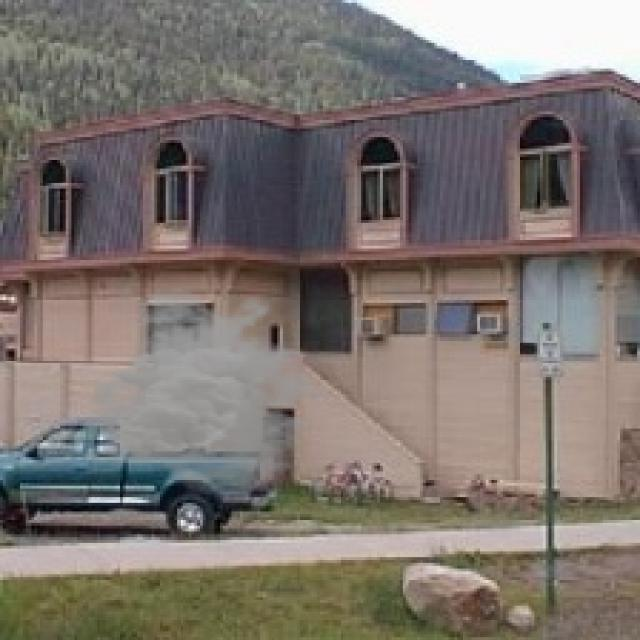smoke: (77, 286, 340, 497)
